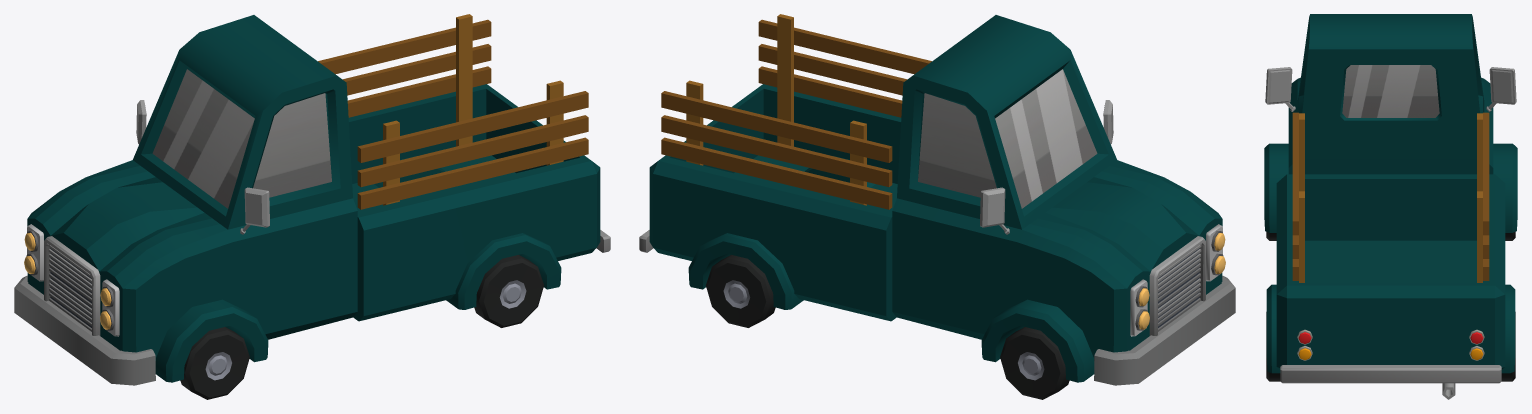
The model's file is Car_12_R.gltf.
3 renders of one model, left to right at view 1: azimuth 30°, elevation 25°; view 2: azimuth 150°, elevation 25°; view 3: azimuth 270°, elevation 25°, orthographic. The views are drawn at different scales.
Parts seen in each view (by area): view 1: Car_12_R, RL, FL; view 2: Car_12_R, RR, FR; view 3: Car_12_R.
Part boxes in pixels (x1,y1,x2,y2): Car_12_R: (14, 14, 610, 385); RL: (474, 255, 544, 327); FL: (180, 327, 249, 399); Car_12_R: (639, 14, 1235, 385); RR: (705, 255, 775, 327); FR: (1000, 327, 1069, 399); Car_12_R: (1264, 14, 1517, 399).
Bounding box in the file's own units: 3.82 × 2.01 × 1.73.
Materials: 4 (4 with a texture image).
